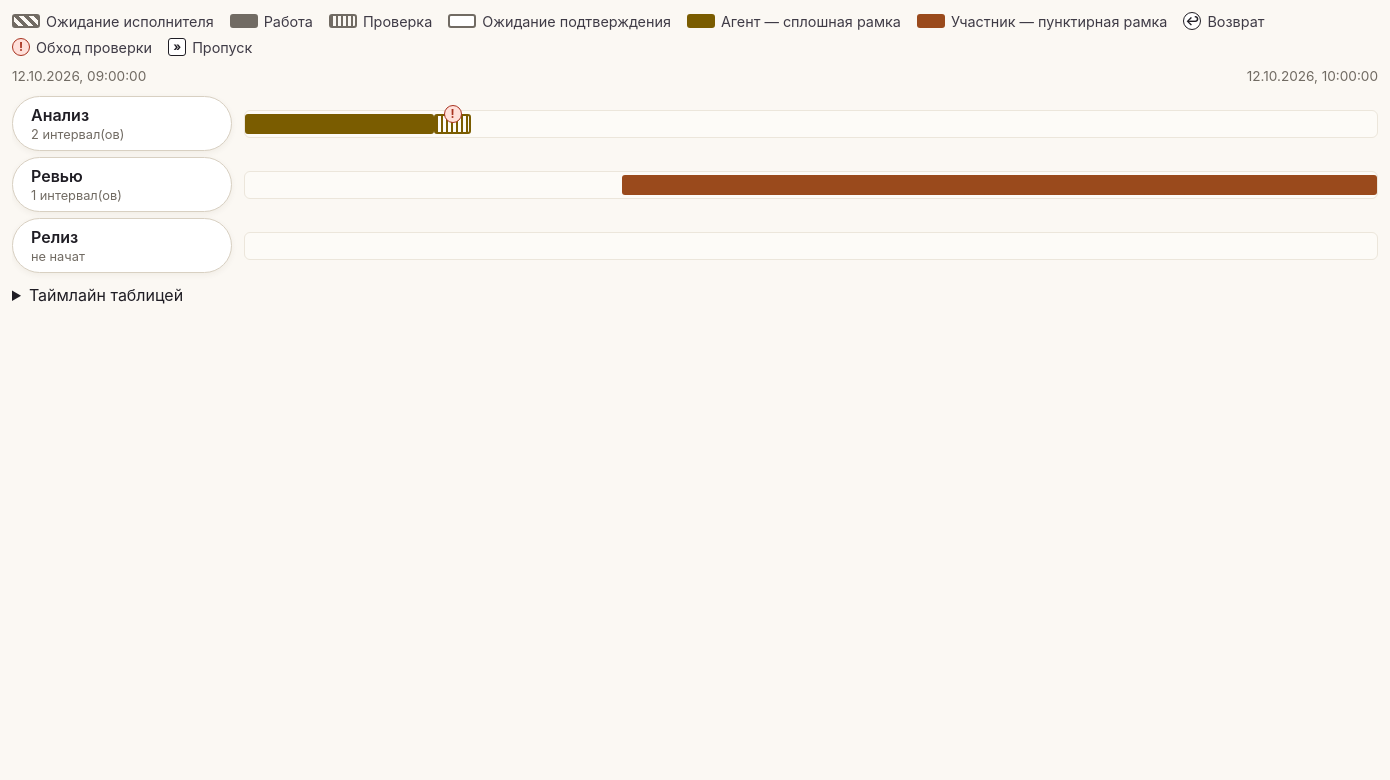
Test: TaskTimeline › shows unknown usage as no data, not zero
Click the button "Ревью 1 интервал(ов)" at (122, 184), box [12,157,232,212]
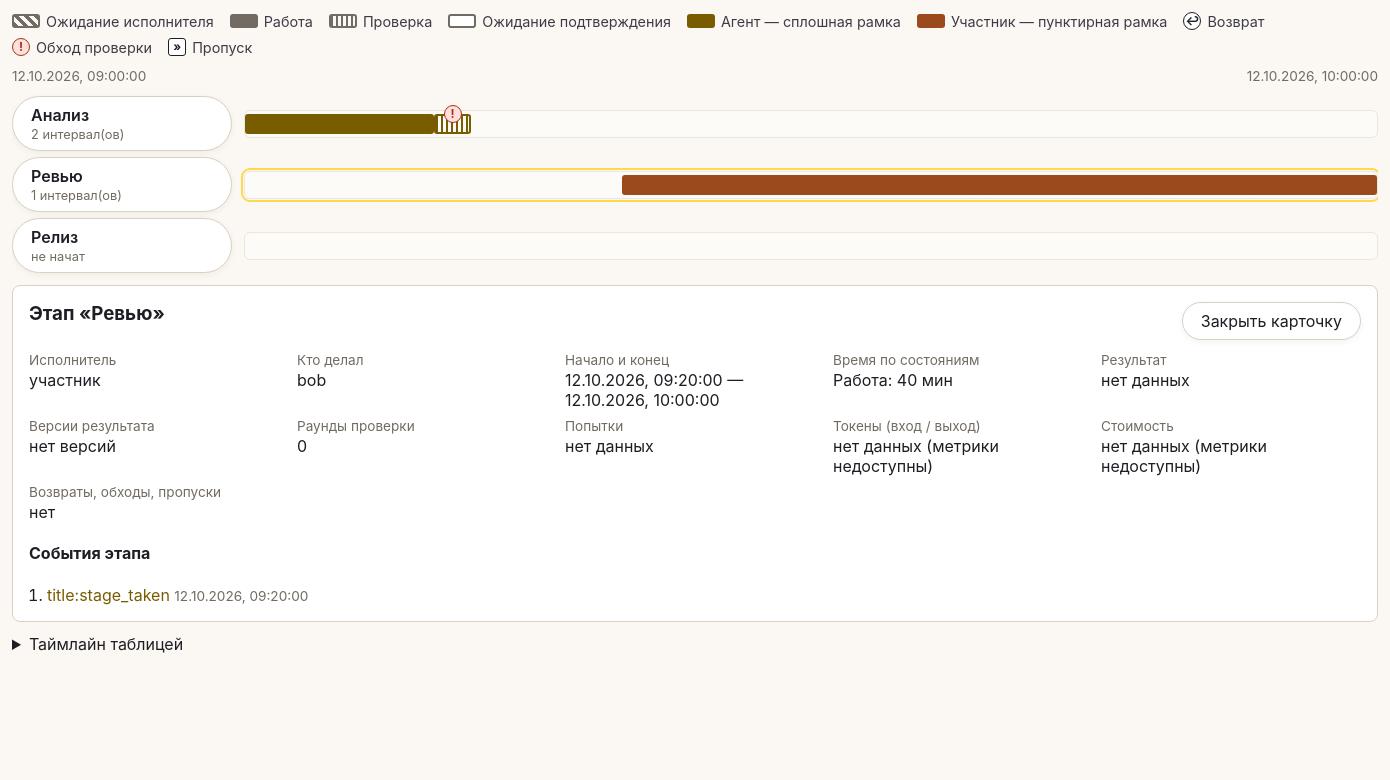
Expected: the text "нет данных (метрики недоступны)" is shown 2 times, [833,436,999,476]; [1101,436,1267,476]
Expected: the text "bob" is shown, [297,370,326,390]
